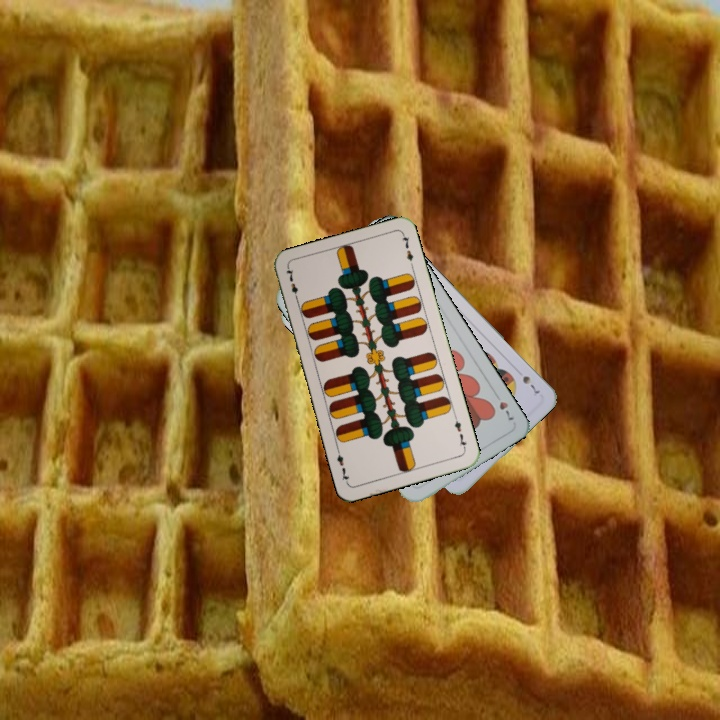E7: (450, 412, 469, 452), (282, 264, 301, 304)
H7: (490, 388, 516, 424)
S7: (518, 372, 543, 397)
